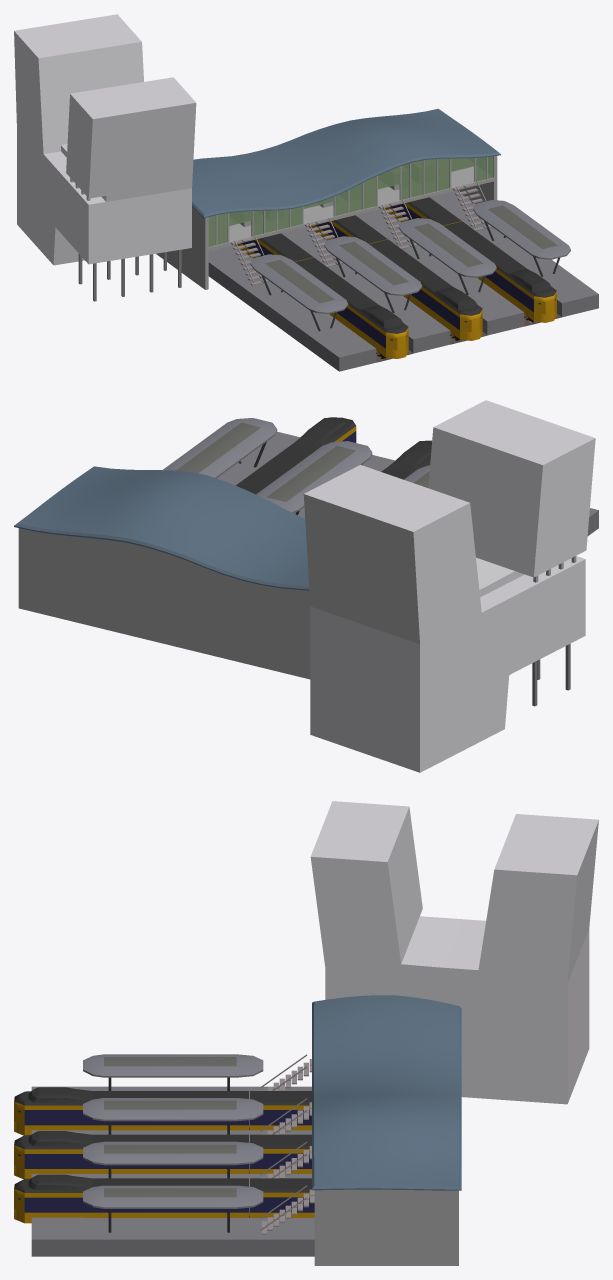
File: Station.fbx
The picture shows the model from 3 angles, top to bottom: view 1: azimuth 30°, elevation 25°; view 2: azimuth 150°, elevation 25°; view 3: azimuth 270°, elevation 25°; orthographic projection. The views are drawn at different scales.
Visible parts, largest first — view 1: pCube218; view 2: pCube218; view 3: pCube218.
Part boxes in pixels (x1,y1,x2,y2): pCube218: (14,14,598,371); pCube218: (14,400,598,772); pCube218: (14,801,598,1265).
Size of the model in its own units: 0.4145 by 0.1898 by 0.4351.
